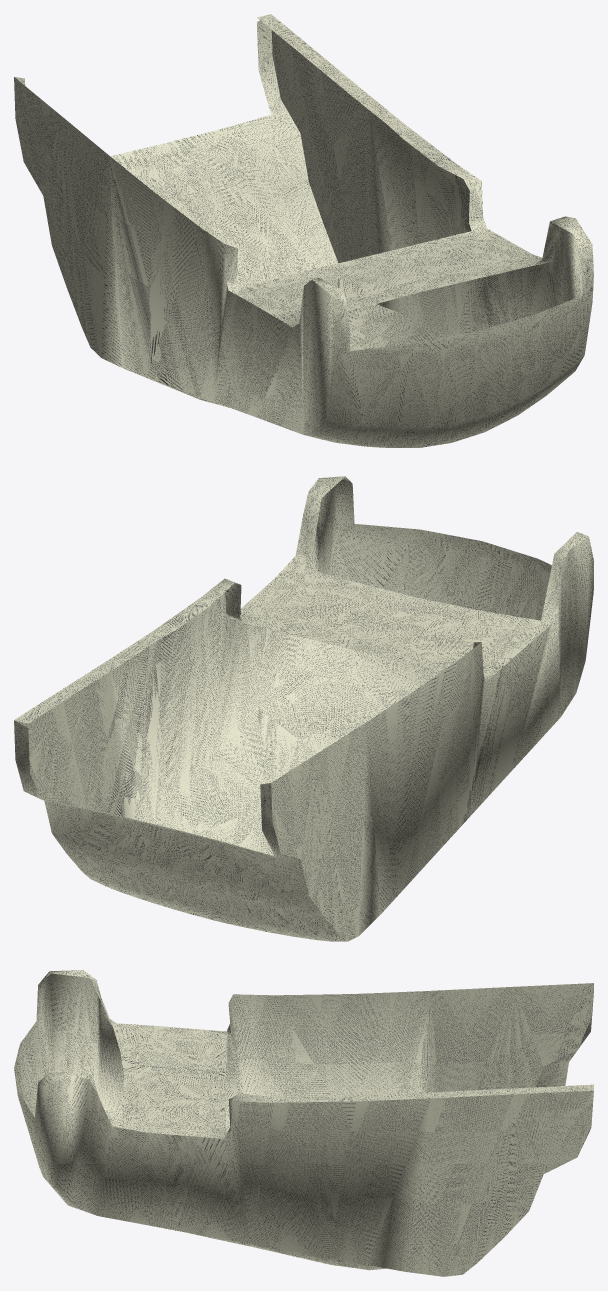
The model's file is original-65.obj.
The picture shows the model from 3 angles, top to bottom: view 1: azimuth 30°, elevation 25°; view 2: azimuth 150°, elevation 25°; view 3: azimuth 270°, elevation 25°; orthographic projection. The views are drawn at different scales.
Parts seen in each view (by area): view 1: mesh72/mesh72-geometry#mesh72-geometry; view 2: mesh72/mesh72-geometry#mesh72-geometry; view 3: mesh72/mesh72-geometry#mesh72-geometry.
Part boxes in pixels (x1,y1,x2,y2): mesh72/mesh72-geometry#mesh72-geometry: (14,14,593,447); mesh72/mesh72-geometry#mesh72-geometry: (14,476,593,941); mesh72/mesh72-geometry#mesh72-geometry: (14,970,593,1276).
Size of the model in its own units: 0.191 by 0.193 by 0.4354.
